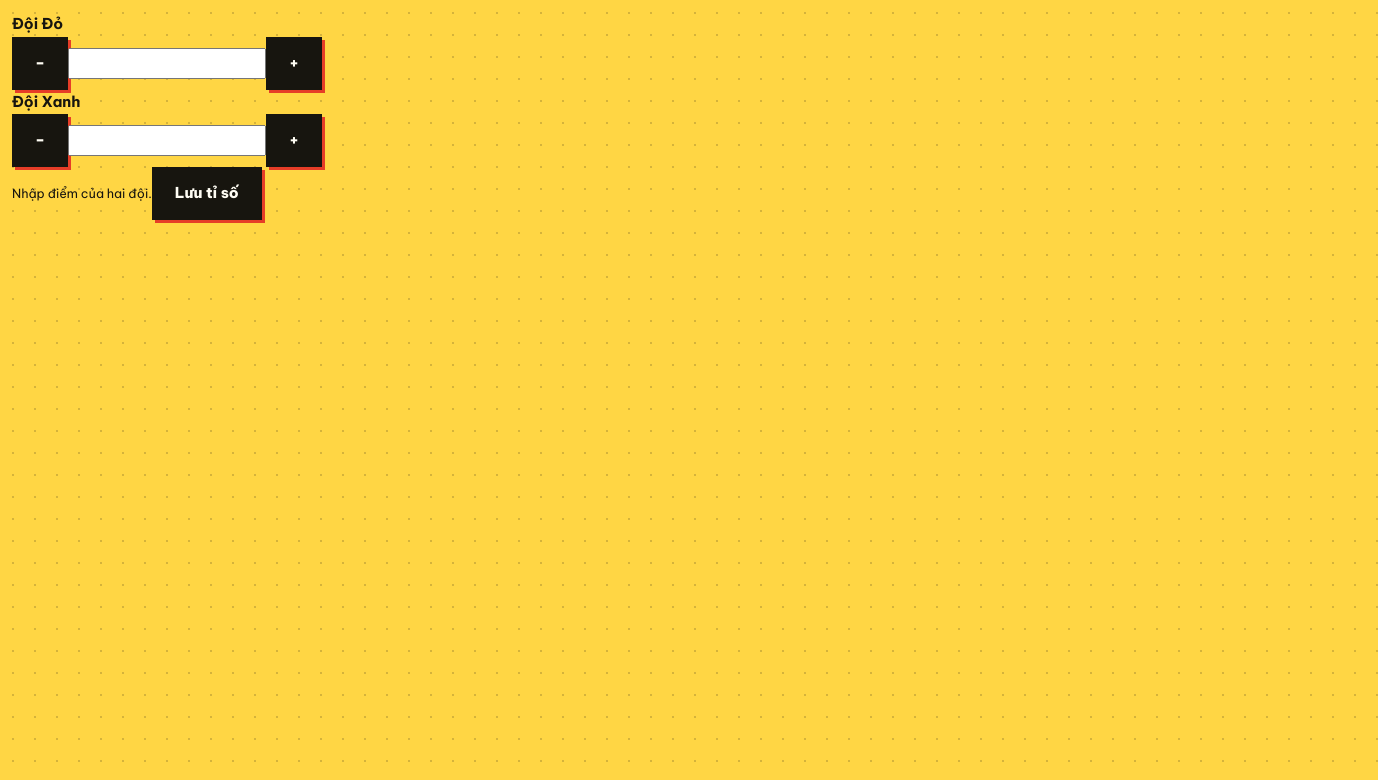
ScoreEntry › explains a score that is not final
Type "21" into the field named "Điểm Đội Đỏ" at {"x": 167, "y": 63}, box left=68, top=48, right=266, bottom=79
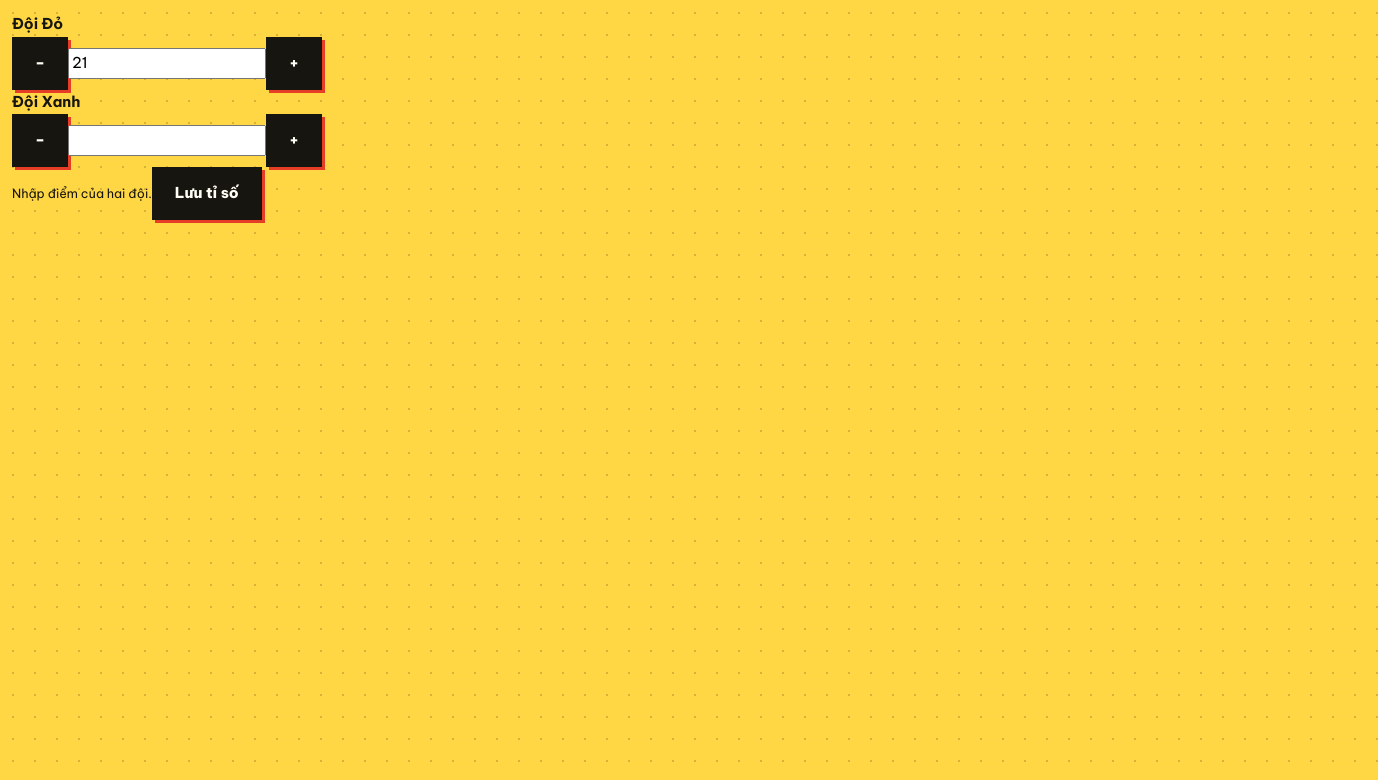
Type "20" into the field named "Điểm Đội Xanh" at {"x": 167, "y": 141}, box left=68, top=125, right=266, bottom=156
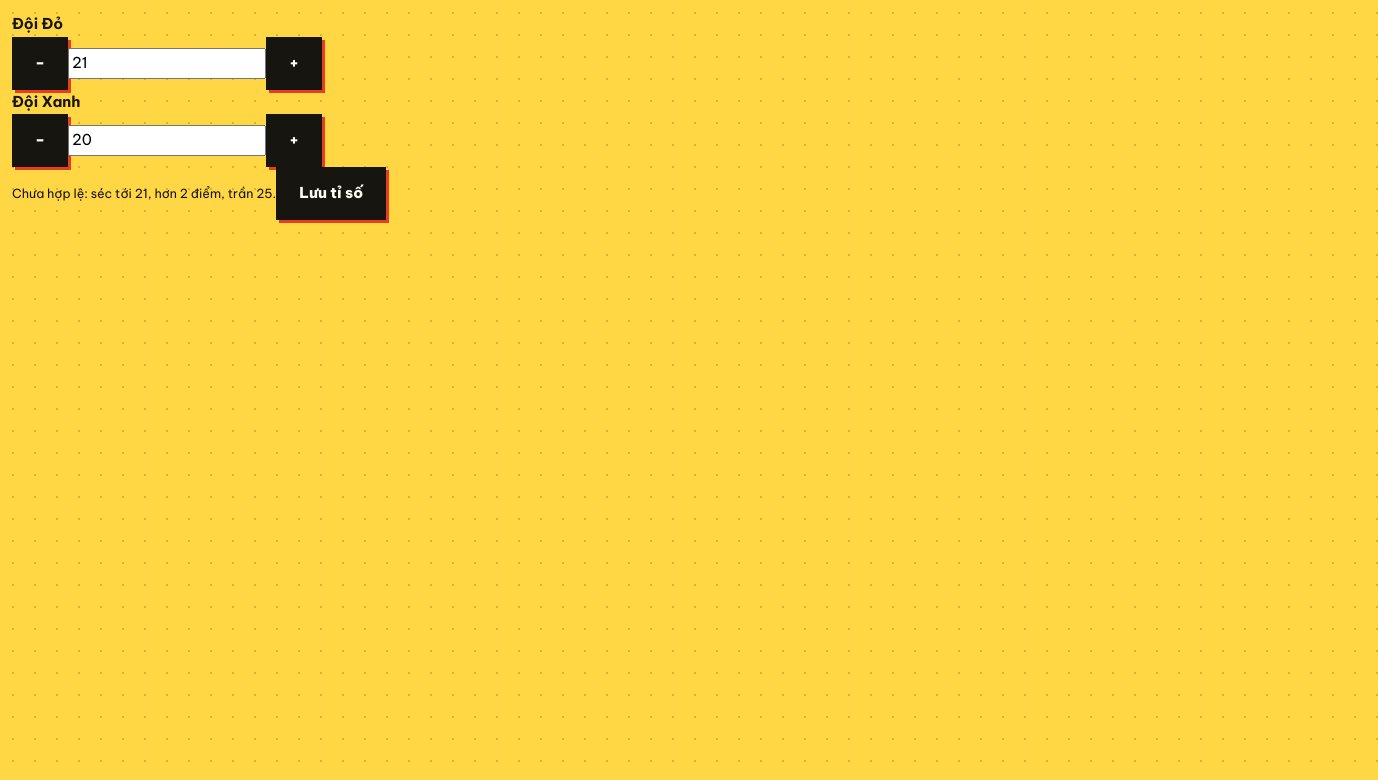
Expected: the button "Lưu tỉ số" is disabled, left=276, top=167, right=386, bottom=220
Result: the text "Chưa hợp lệ: séc tới 21, hơn 2 điểm, trần 25." is shown at left=12, top=185, right=276, bottom=201
